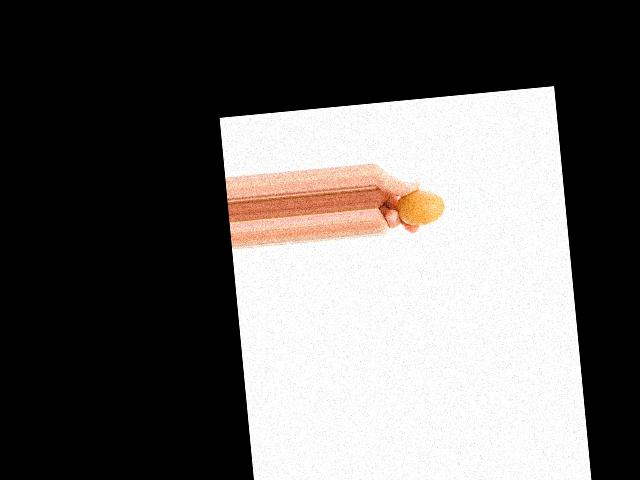egg: (395, 187, 446, 228)
